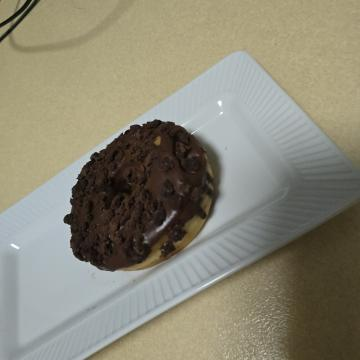doughnut: (104, 129, 281, 308)
